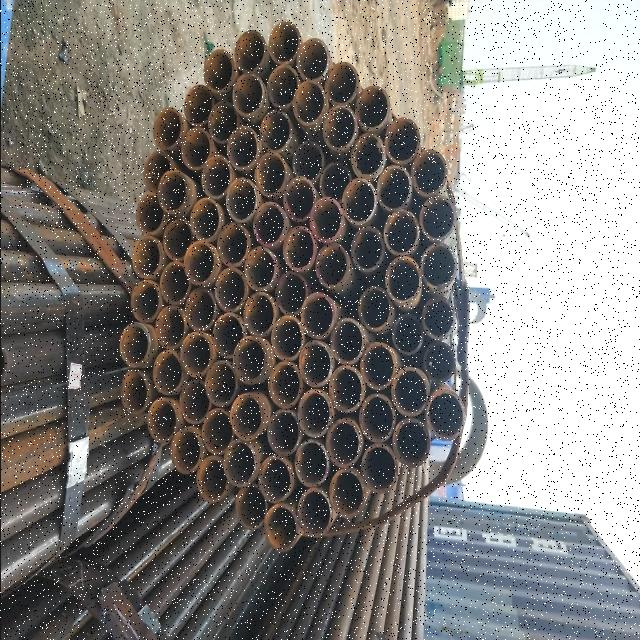pipe: (426, 390, 468, 440), (390, 366, 428, 418), (420, 242, 458, 292), (358, 394, 396, 444), (256, 456, 294, 506), (384, 253, 420, 305), (136, 151, 176, 197), (228, 394, 266, 442), (392, 418, 428, 468), (350, 130, 386, 180), (232, 336, 268, 386), (418, 195, 456, 242), (362, 442, 396, 494), (330, 314, 364, 366), (296, 388, 330, 440), (410, 150, 446, 198), (340, 178, 376, 226), (358, 284, 394, 332), (320, 103, 356, 151), (330, 360, 362, 414), (294, 440, 330, 488), (182, 239, 218, 287), (328, 416, 362, 466), (314, 240, 349, 288), (329, 470, 364, 518), (376, 162, 410, 210), (266, 408, 300, 456), (254, 150, 288, 198), (252, 199, 286, 247), (298, 341, 334, 386), (290, 78, 322, 128), (282, 221, 314, 271), (298, 488, 330, 538), (234, 24, 266, 74), (225, 173, 258, 221), (324, 59, 359, 104), (384, 119, 418, 165), (384, 210, 418, 256), (356, 84, 390, 130), (360, 343, 394, 389), (300, 292, 334, 338), (230, 70, 264, 116), (200, 153, 233, 200), (350, 226, 382, 274), (266, 504, 298, 552), (218, 220, 250, 268), (214, 266, 246, 314), (204, 360, 236, 408), (178, 333, 212, 378), (205, 98, 238, 144), (170, 428, 203, 474), (288, 140, 324, 182), (222, 443, 258, 485), (294, 38, 328, 82), (244, 292, 278, 336), (272, 316, 304, 362), (266, 20, 298, 66), (196, 457, 228, 503), (188, 197, 220, 243), (320, 154, 350, 202), (310, 196, 340, 244), (268, 364, 300, 409), (232, 490, 268, 530), (212, 312, 242, 360), (152, 101, 182, 149), (244, 246, 276, 290), (154, 307, 186, 351), (152, 350, 184, 394), (146, 402, 178, 446), (204, 406, 232, 456), (284, 175, 314, 221), (268, 64, 298, 110), (154, 172, 186, 215), (130, 237, 162, 280), (422, 298, 456, 338), (426, 341, 458, 383), (274, 272, 306, 314), (180, 378, 208, 426), (228, 126, 258, 170), (184, 287, 214, 331), (206, 45, 232, 95), (130, 197, 164, 235), (118, 326, 152, 364), (164, 214, 192, 260), (180, 130, 212, 170), (128, 282, 160, 322), (392, 314, 422, 356), (184, 81, 212, 126), (158, 264, 188, 306), (120, 371, 148, 416), (260, 111, 290, 151)
